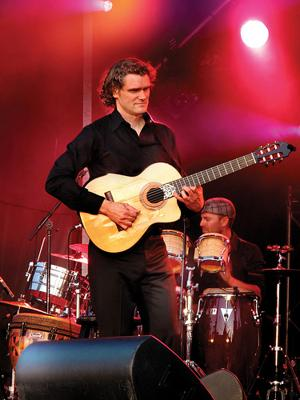person: (45, 57, 205, 358)
